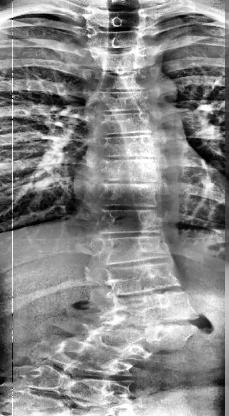Vertebrae: (101, 316, 201, 352), (64, 327, 154, 367), (44, 350, 134, 388), (94, 224, 170, 266), (102, 260, 186, 298), (112, 290, 202, 324), (94, 198, 168, 235), (92, 107, 170, 141), (92, 80, 166, 114), (88, 63, 164, 95), (99, 128, 165, 162), (88, 43, 160, 73), (97, 157, 168, 187), (98, 178, 164, 208), (88, 21, 156, 49)
